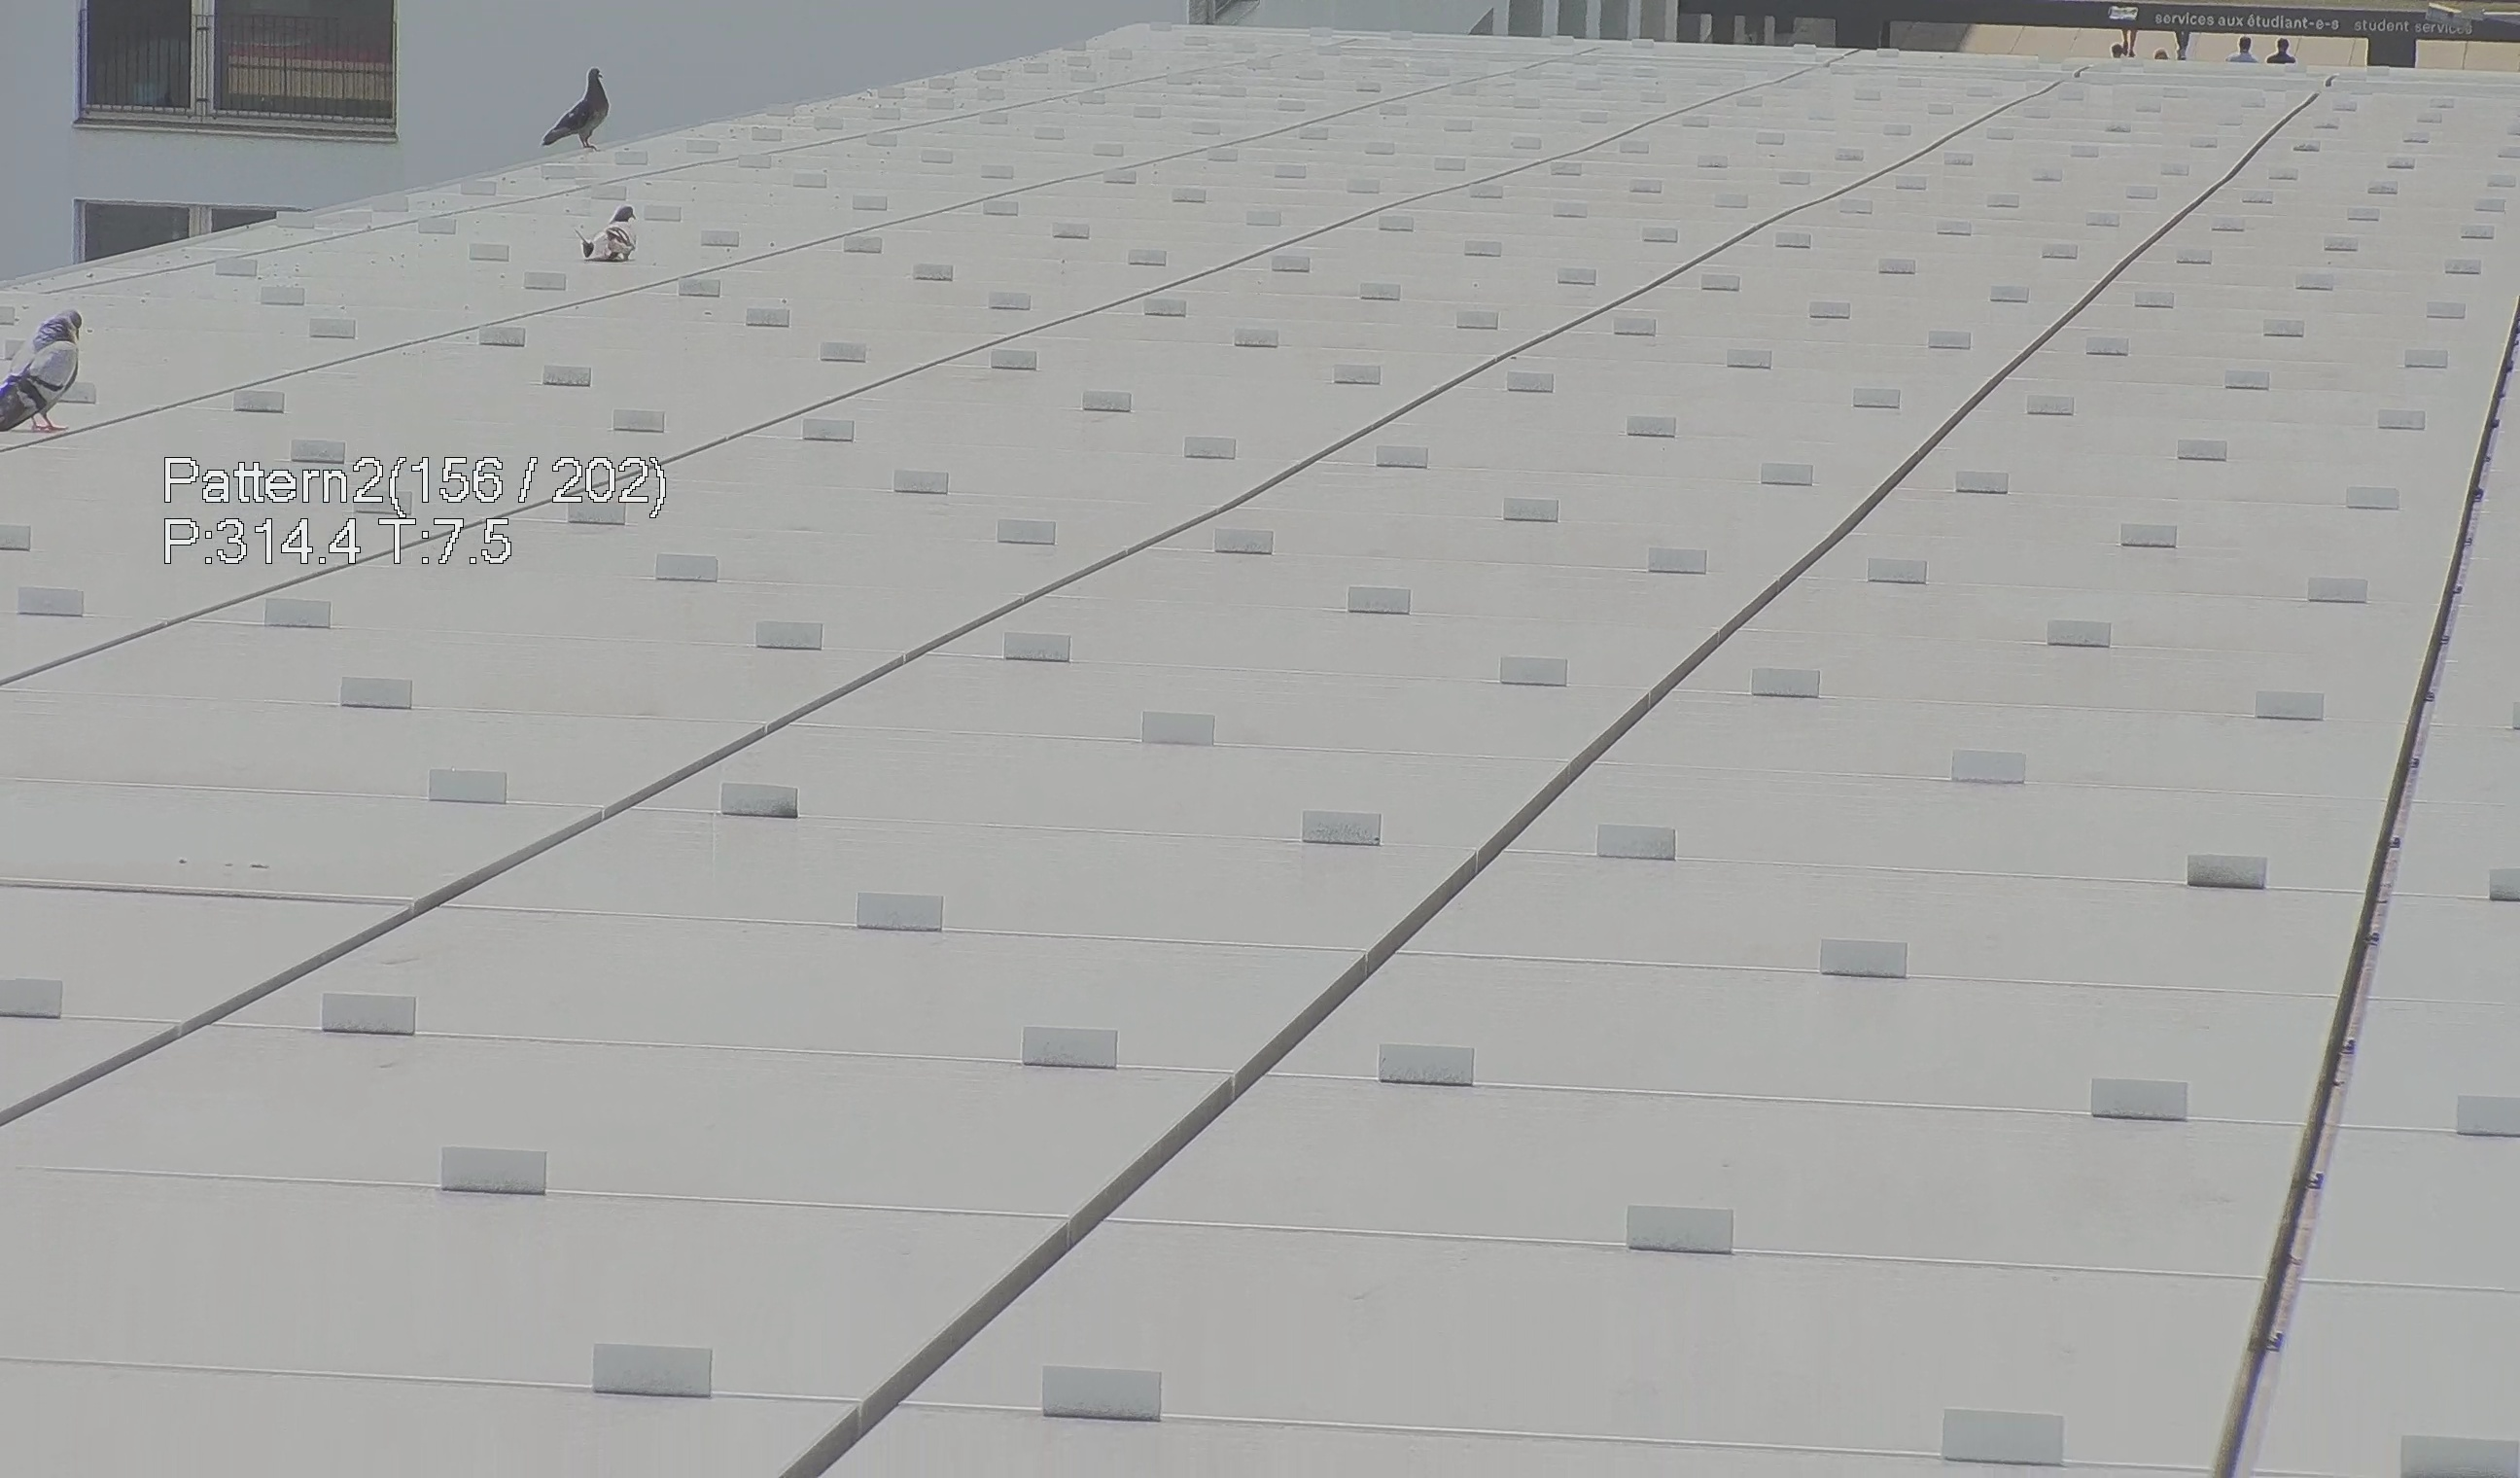Pigeon: (2, 308, 114, 438), (526, 55, 608, 158), (568, 192, 651, 276)
